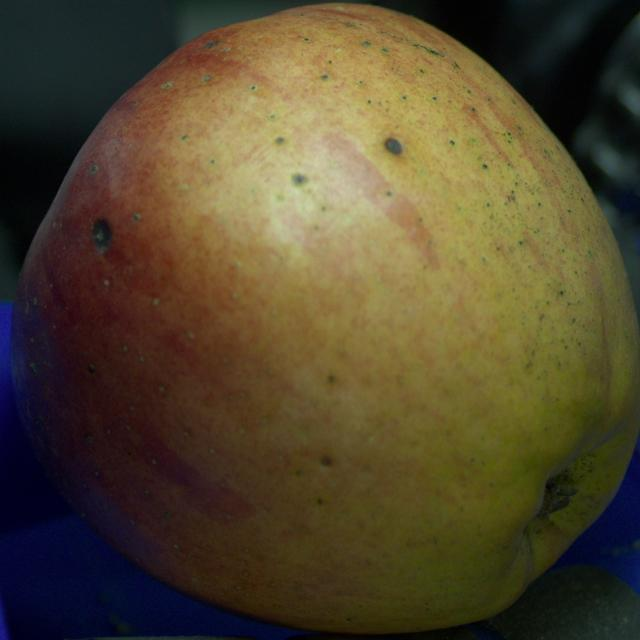apple: (11, 3, 639, 634)
pest: (91, 219, 111, 252), (385, 138, 402, 154), (322, 456, 331, 465), (329, 376, 334, 381)
